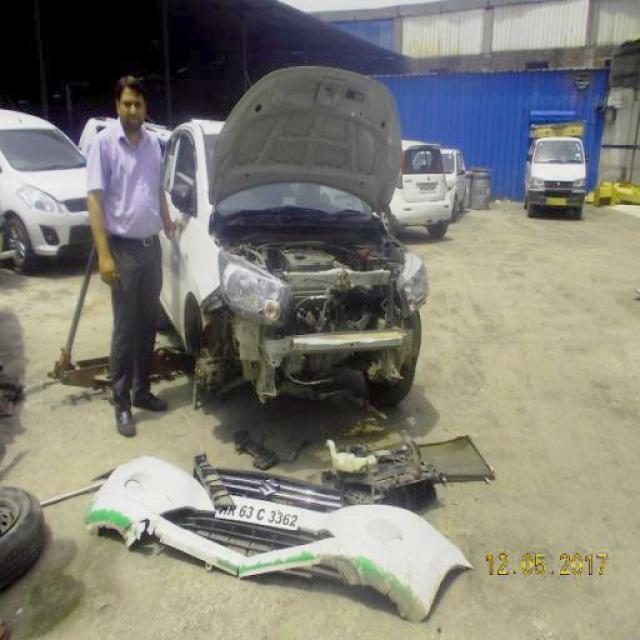car damage: (209, 278, 433, 409)
